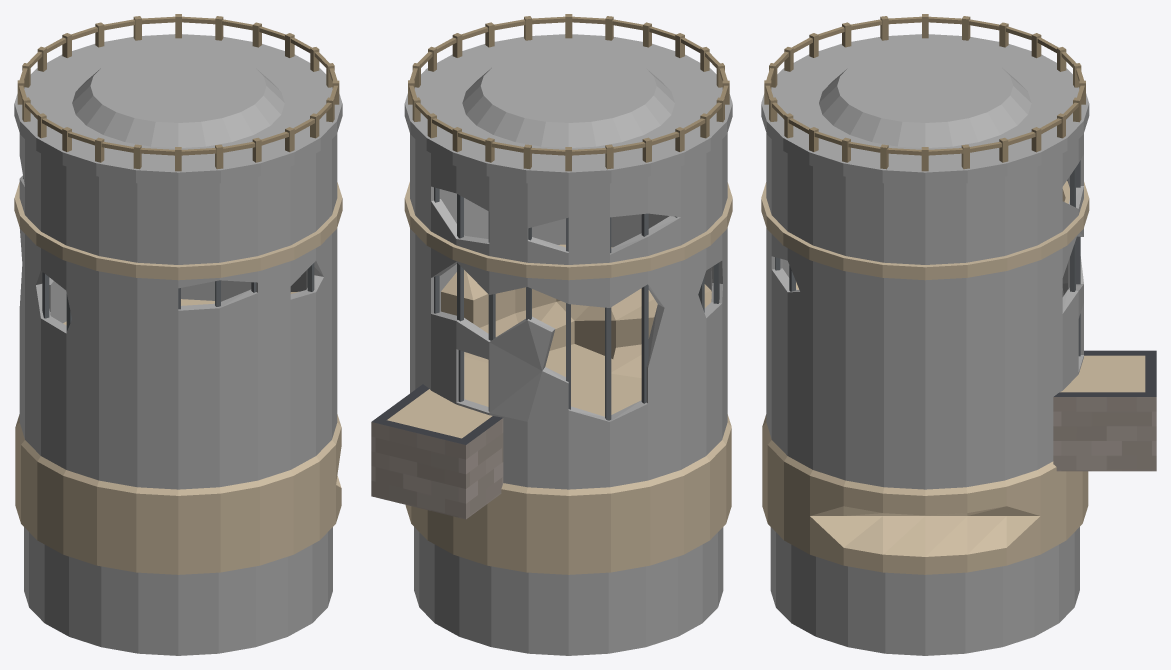
Rendered from LightStoneBuildingLargeBrokenTower1.fbx.
3 renders of one model, left to right at view 1: azimuth 30°, elevation 25°; view 2: azimuth 150°, elevation 25°; view 3: azimuth 270°, elevation 25°, orthographic.
Parts seen in each view (by area): view 1: LightStoneBuildingLargeBrokenTower1; view 2: LightStoneBuildingLargeBrokenTower1, Platform; view 3: LightStoneBuildingLargeBrokenTower1, Platform.
Boxes of the visible parts, x1=… form: LightStoneBuildingLargeBrokenTower1: x1=14, y1=14, x2=342, y2=655; LightStoneBuildingLargeBrokenTower1: x1=404, y1=14, x2=732, y2=655; Platform: x1=371, y1=384, x2=503, y2=519; LightStoneBuildingLargeBrokenTower1: x1=761, y1=14, x2=1089, y2=655; Platform: x1=1053, y1=350, x2=1156, y2=471.
Size of the model in its own units: 1198 by 2050 by 1445.
Materials: 6 (1 with a texture image).
